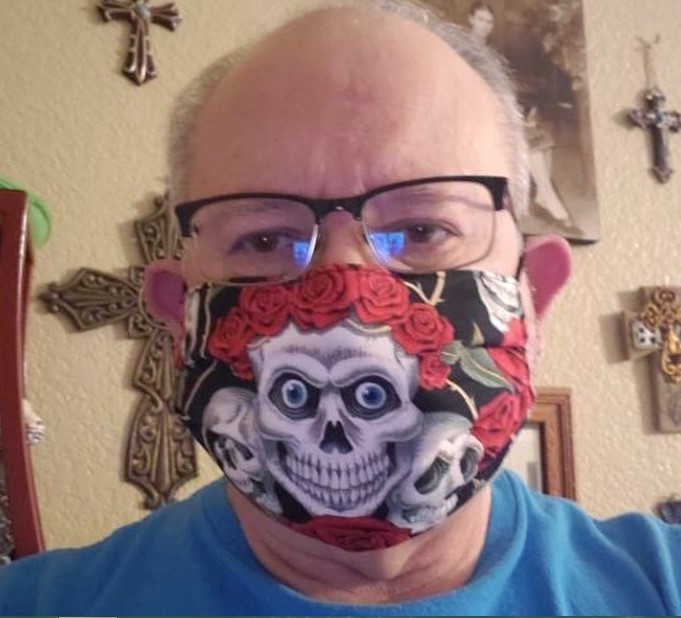face_with_mask: (171, 10, 576, 553)
